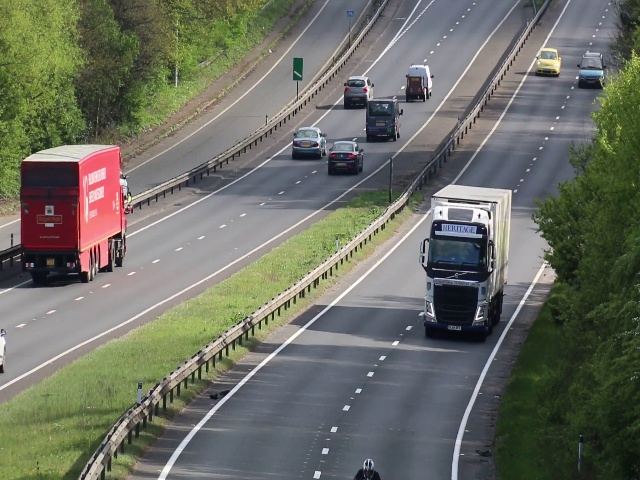car: (18, 141, 128, 285), (428, 223, 485, 339), (367, 99, 402, 139), (329, 139, 365, 173), (293, 127, 326, 157), (406, 63, 431, 101), (580, 51, 604, 88), (534, 48, 563, 78), (342, 76, 373, 104)
